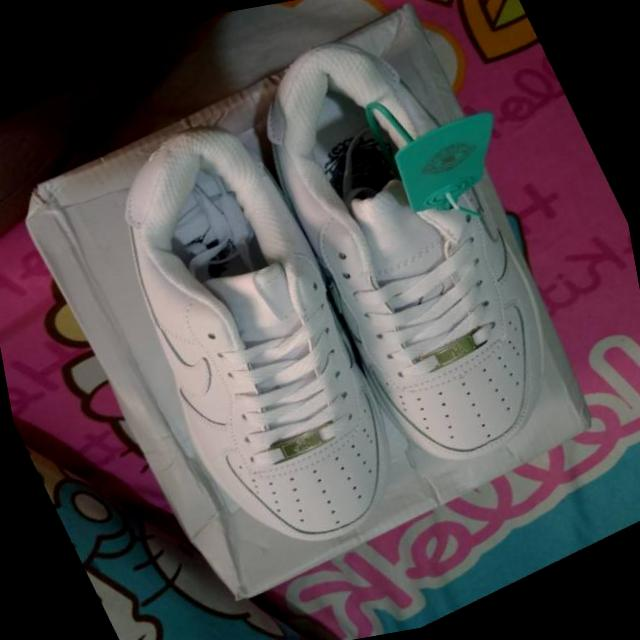nike_fake_airforce: (201, 0, 616, 515), (61, 79, 452, 599)
